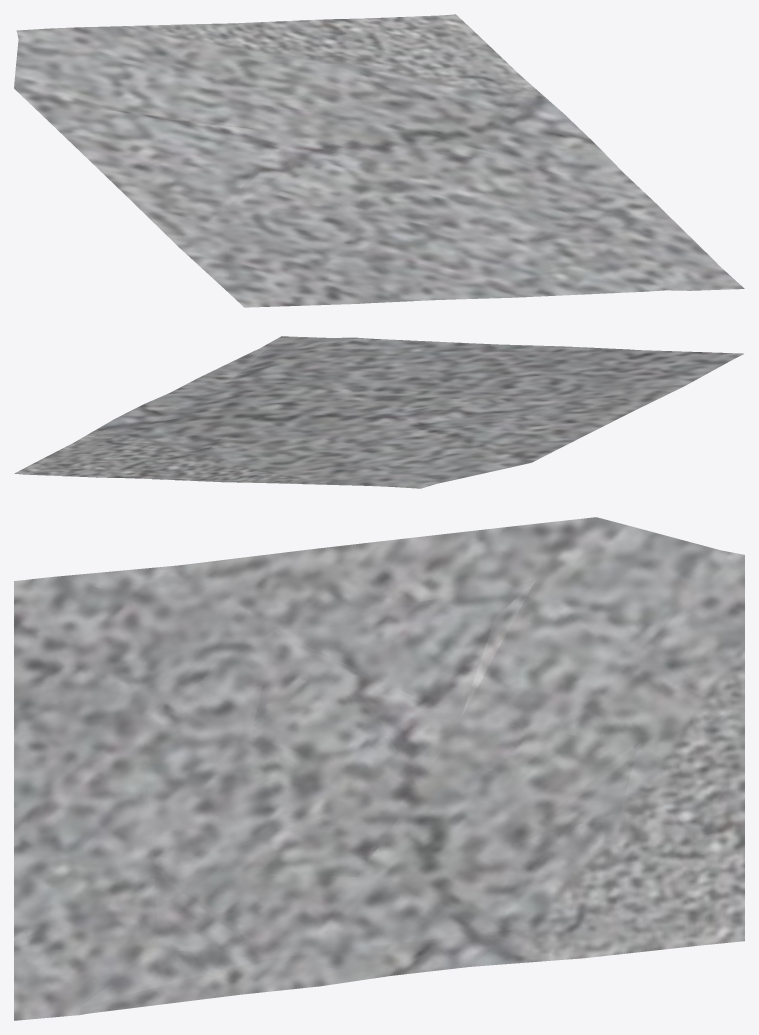
The picture shows the model from 3 angles, top to bottom: view 1: azimuth 30°, elevation 25°; view 2: azimuth 150°, elevation 25°; view 3: azimuth 270°, elevation 25°; orthographic projection. The views are drawn at different scales.
Bounding box in the file's own units: 0.8373 × 0.2462 × 0.8374.
3 materials, 3 textured.
